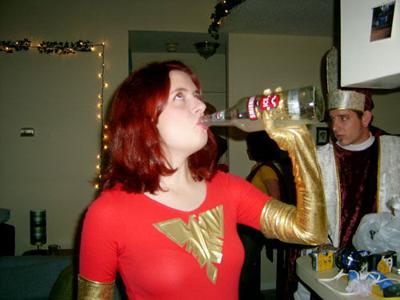person: (77, 58, 329, 300)
